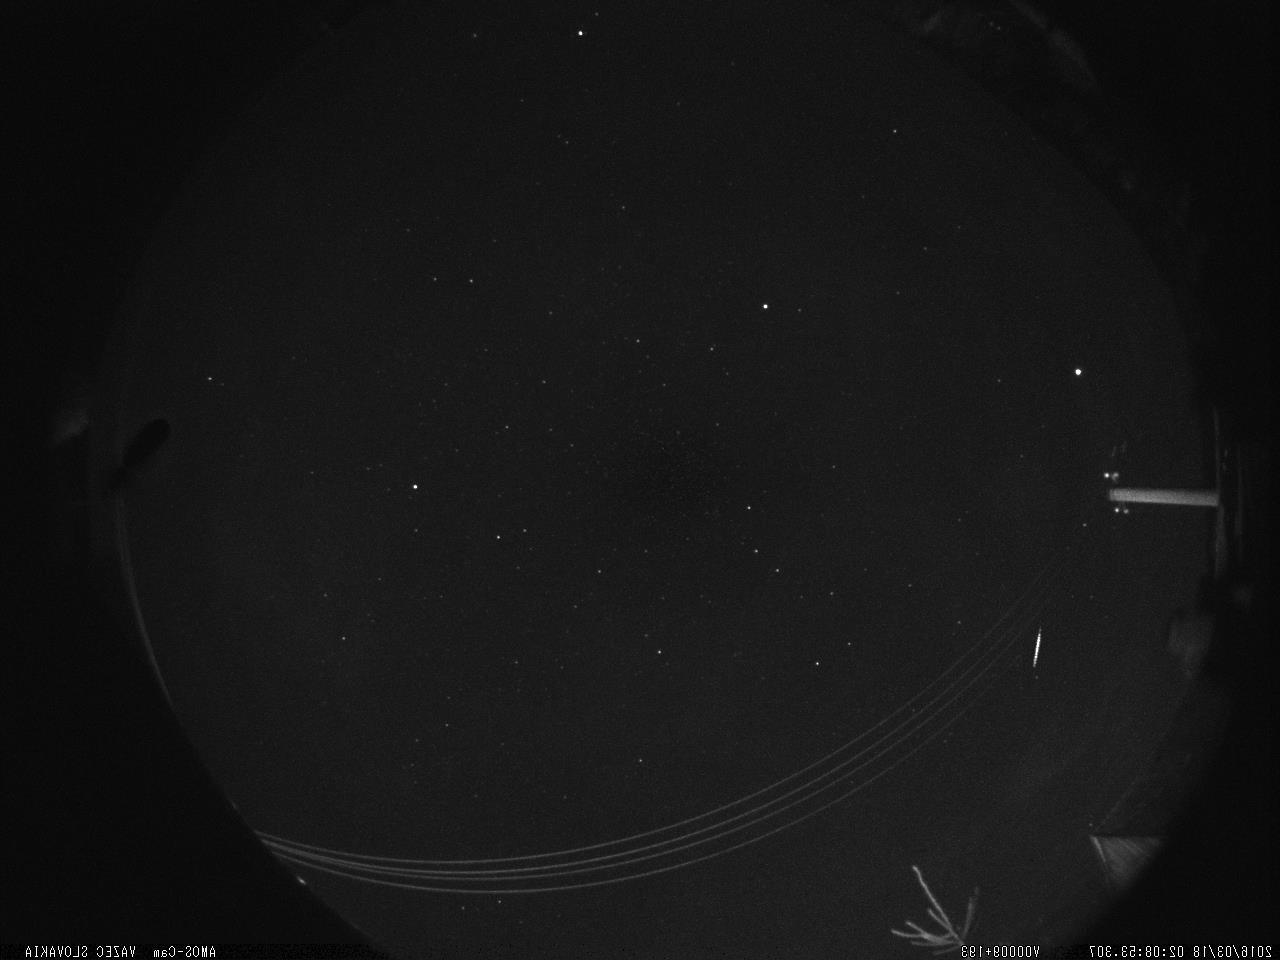meteor: (1025, 620, 1049, 671)
